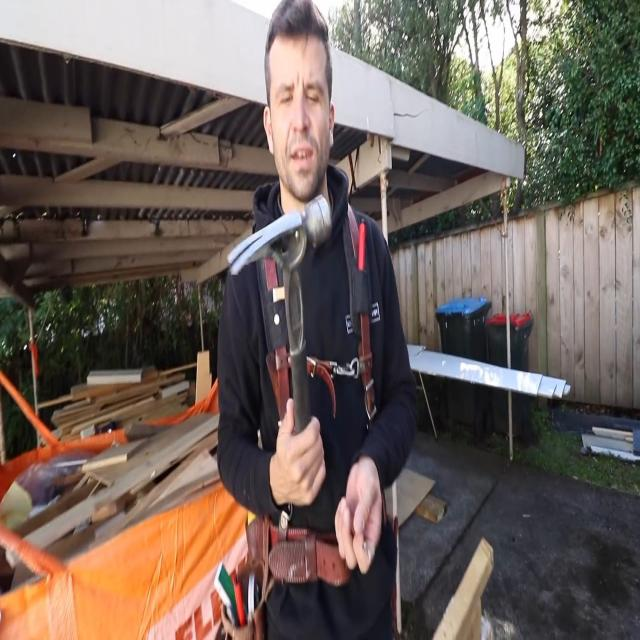hammer: (227, 192, 333, 442)
